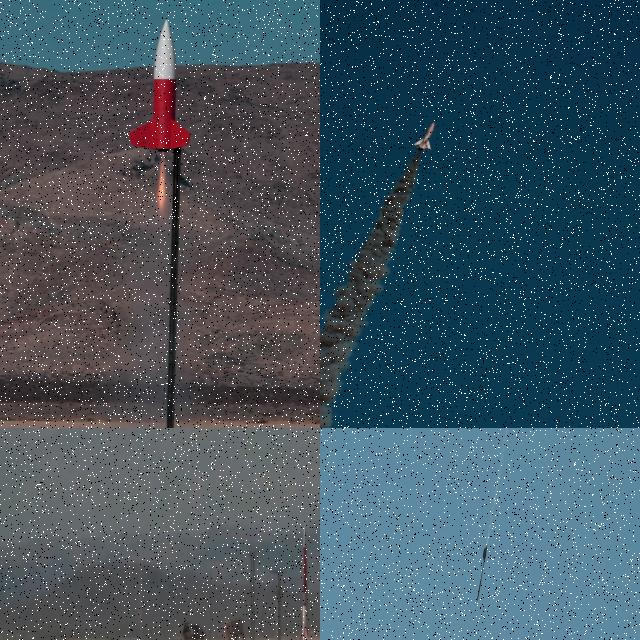Rocket: (126, 18, 192, 152), (298, 525, 309, 640), (413, 121, 435, 152), (477, 543, 488, 603)
